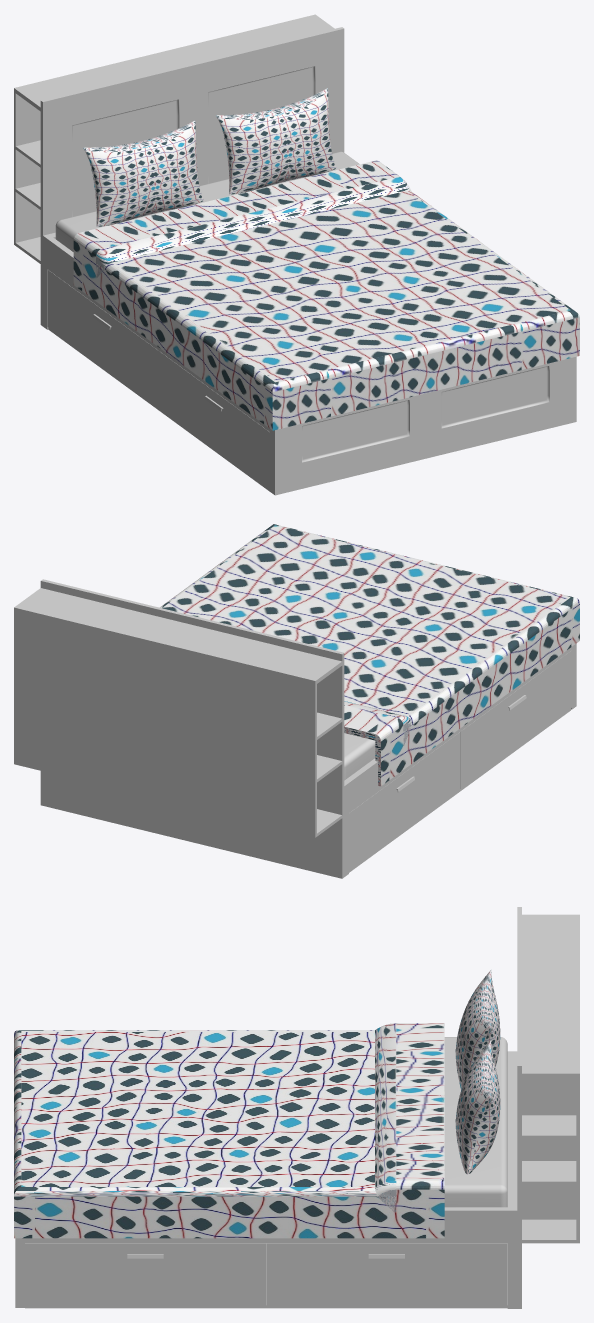
Rendered from Brimnes.fbx.
3 views of the same model, one above another, from view 1: azimuth 30°, elevation 25°; view 2: azimuth 150°, elevation 25°; view 3: azimuth 270°, elevation 25° (orthographic). The views are drawn at different scales.
Visible parts, largest first — view 1: IKE160267; view 2: IKE160267; view 3: IKE160267.
Part boxes in pixels (x1,y1,x2,y2): IKE160267: (14, 14, 579, 495); IKE160267: (14, 524, 579, 878); IKE160267: (14, 907, 579, 1308).
Size of the model in its own units: 15900 by 11100 by 23450.
2 materials, 1 textured.
